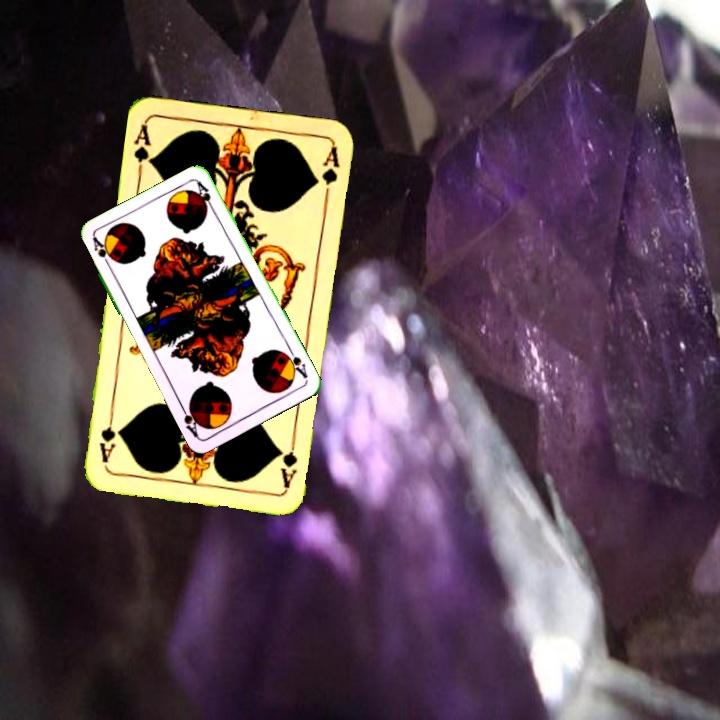GA: (129, 119, 156, 178), (276, 431, 300, 490)
SA: (279, 344, 310, 381), (89, 233, 116, 272)
